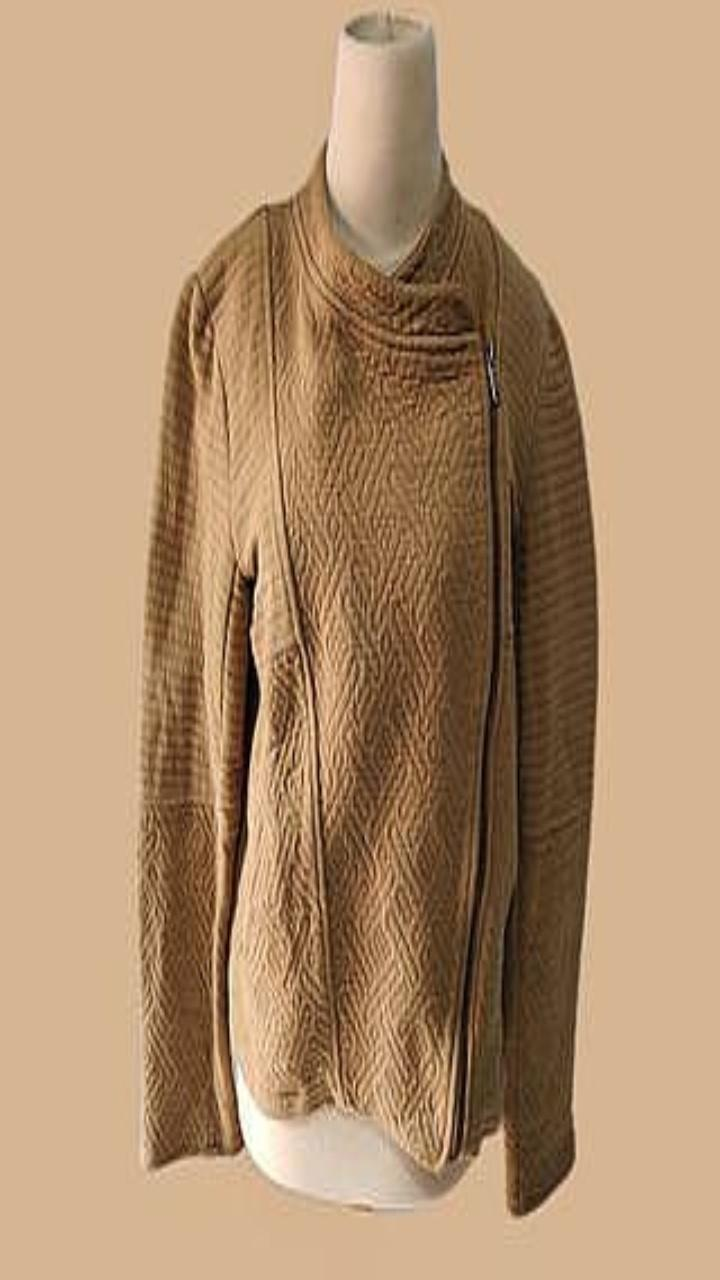Sports_Jacket: (138, 141, 597, 1213)
